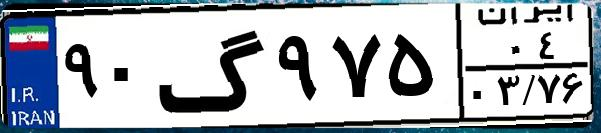0: (110, 28, 156, 98), (508, 27, 537, 80), (470, 70, 495, 125)
3: (495, 70, 520, 125)
4: (537, 27, 568, 80)
5: (385, 28, 445, 110)
6: (560, 70, 590, 125)
7: (330, 28, 385, 110), (535, 70, 560, 125)
9: (270, 28, 330, 110), (57, 26, 110, 100)
گ: (156, 12, 270, 120)
